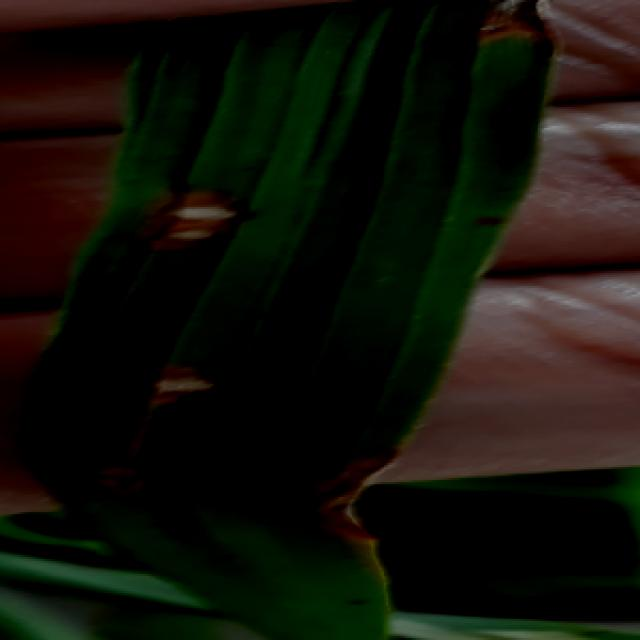Brown_Spot: (70, 344, 250, 506), (154, 180, 258, 280)
